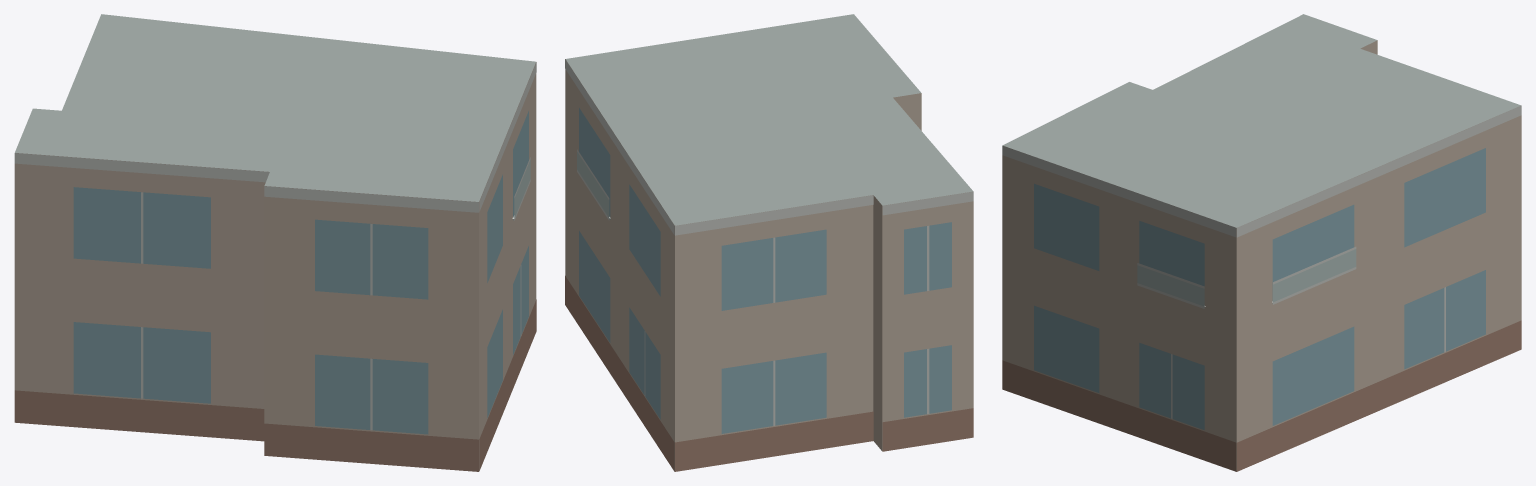
File: survey-upis-32676529.glb
The picture shows the model from 3 angles, left to right: view 1: azimuth 30°, elevation 25°; view 2: azimuth 150°, elevation 25°; view 3: azimuth 270°, elevation 25°; orthographic projection. The views are drawn at different scales.
Visible parts, largest first — view 1: survey-upis-32676529.tmp; view 2: survey-upis-32676529.tmp; view 3: survey-upis-32676529.tmp.
Boxes of the visible parts, <box> form: survey-upis-32676529.tmp: <box>14,14,536,471</box>; survey-upis-32676529.tmp: <box>565,14,973,471</box>; survey-upis-32676529.tmp: <box>1002,14,1521,471</box>.
Bounding box in the file's own units: 11.48 × 6.1 × 11.77.
